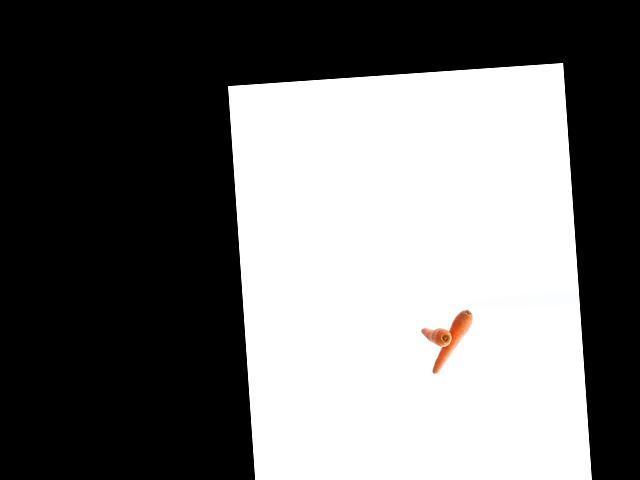carrot: (419, 322, 454, 348)
